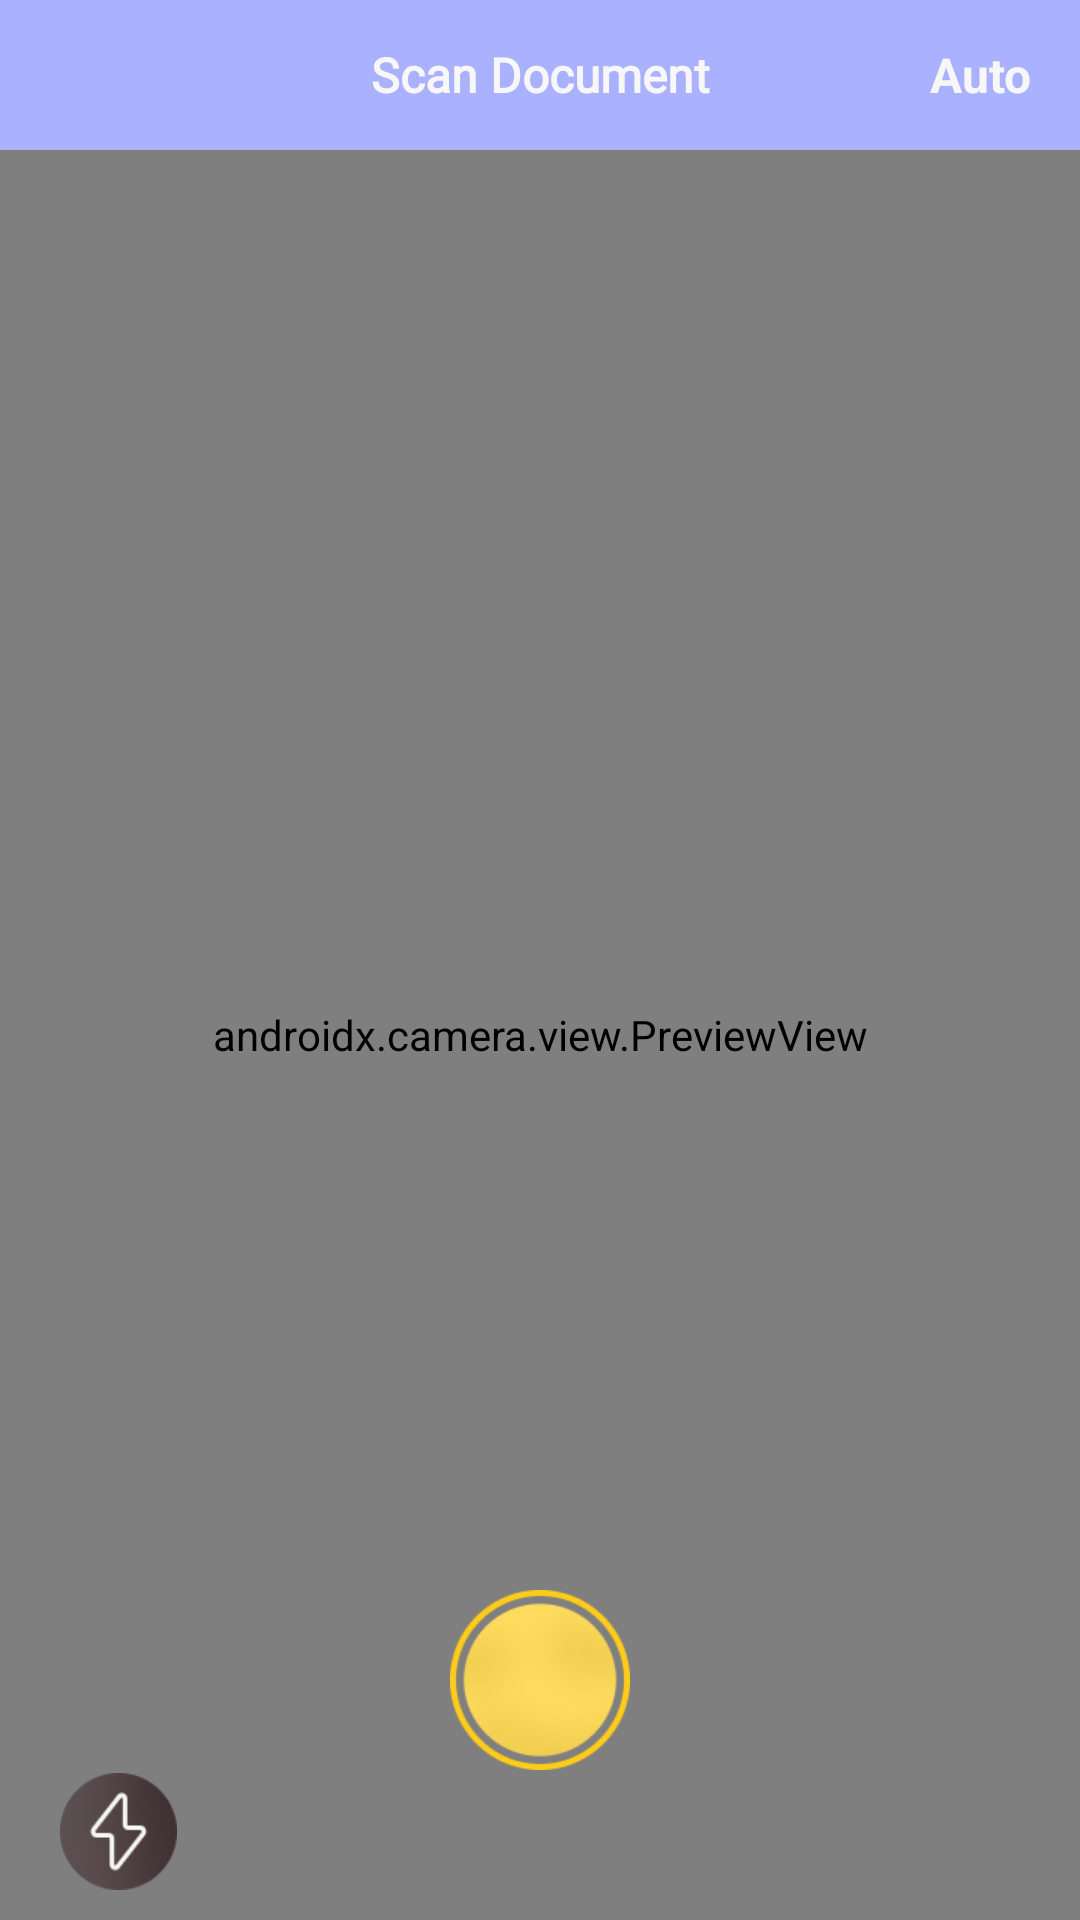

Icons on this 1080w x 1920h Android screen, each with the point to tap as (x=x, y=y):
flash: (x=118, y=1831)
photo fragment take: (x=540, y=1680)
